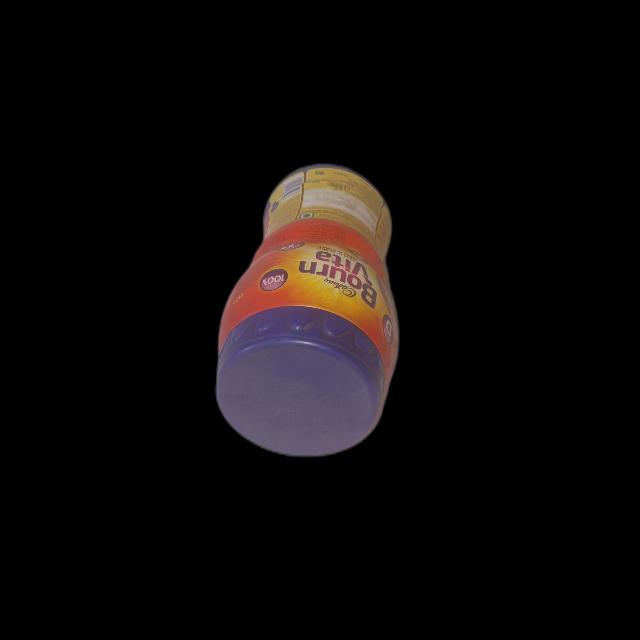Cadbury Bournvita Chocolate Health Drink-1kg-: (208, 158, 402, 454)
